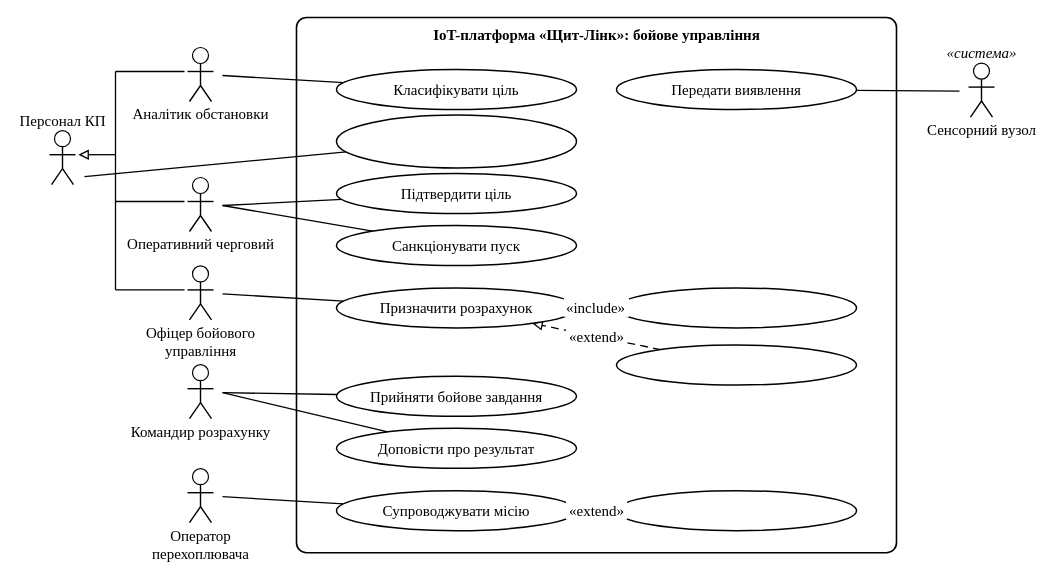
Some shapes in this 1055 by 581 pixel diagram are drawn without their labels. Each missing label, with the box of its shape:
Обрати резервний розрахунок: (615, 344, 857, 385)
Перевірити деконфлікцію: (615, 287, 857, 328)
Переглянути повітряну обстановку: (335, 114, 577, 168)
Скасувати місію: (615, 490, 857, 531)
